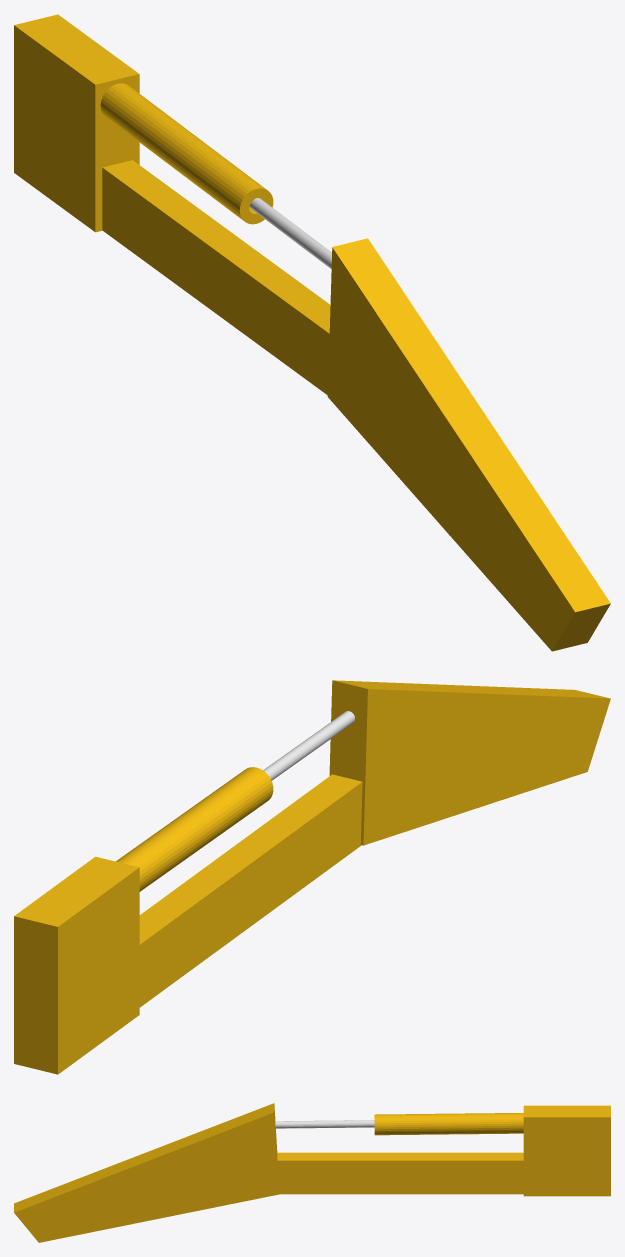
File: wajueji.glb
3 views of the same model, one above another, from view 1: azimuth 30°, elevation 25°; view 2: azimuth 150°, elevation 25°; view 3: azimuth 270°, elevation 25° (orthographic). The views are drawn at different scales.
Visible parts, largest first — view 1: 立方体.002, 立方体, 立方体.001, 柱体, 柱体.001; view 2: 立方体.002, 立方体.001, 立方体, 柱体, 柱体.001; view 3: 立方体.002, 立方体, 立方体.001, 柱体, 柱体.001.
Part boxes in pixels (x1=…): 立方体.002: x1=327, y1=238, x2=610, y2=651; 立方体: x1=102, y1=160, x2=330, y2=394; 立方体.001: x1=14, y1=14, x2=139, y2=232; 柱体: x1=100, y1=83, x2=273, y2=224; 柱体.001: x1=249, y1=198, x2=331, y2=268; 立方体.002: x1=329, y1=680, x2=610, y2=845; 立方体.001: x1=14, y1=856, x2=139, y2=1074; 立方体: x1=139, y1=774, x2=362, y2=1007; 柱体: x1=116, y1=767, x2=273, y2=891; 柱体.001: x1=263, y1=711, x2=354, y2=780; 立方体.002: x1=14, y1=1103, x2=279, y2=1242; 立方体: x1=277, y1=1152, x2=523, y2=1194; 立方体.001: x1=523, y1=1105, x2=610, y2=1196; 柱体: x1=374, y1=1113, x2=523, y2=1135; 柱体.001: x1=275, y1=1120, x2=374, y2=1128.
Bounding box in the file's own units: 1.47 × 7.74 × 32.07.
